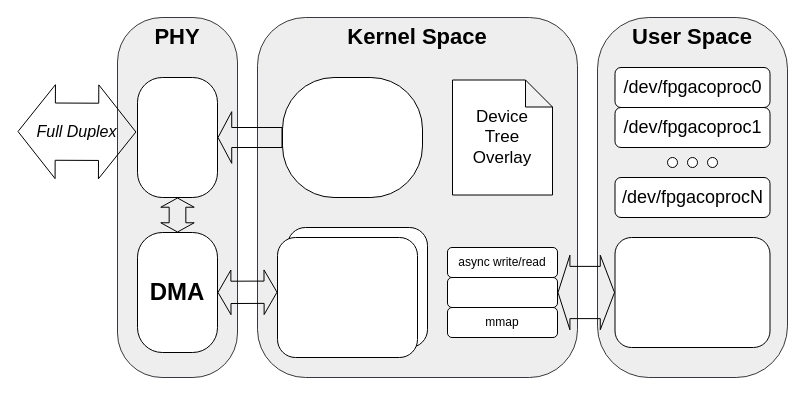
Some shapes in this 805 by 395 pixel diagram are drawn without their labels. Each missing label, with the centre of its shape:
"API Library" belongs at (692,292).
"Dual Tx/Rx buffering" belongs at (347,297).
"ioctl" belongs at (502,292).
"SPI" belongs at (177,137).
"SPI Driver" belongs at (352,137).
